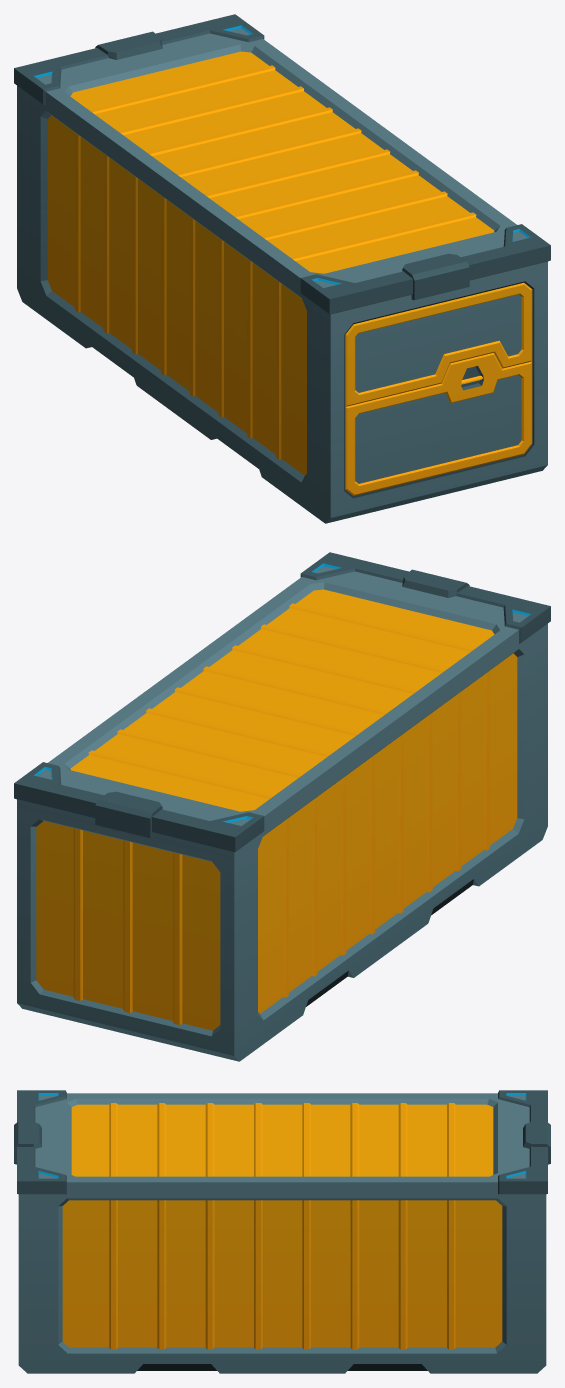
The model's file is Container_type_A_006.glb.
The picture shows the model from 3 angles, top to bottom: view 1: azimuth 30°, elevation 25°; view 2: azimuth 150°, elevation 25°; view 3: azimuth 270°, elevation 25°; orthographic projection. The views are drawn at different scales.
Parts seen in each view (by area): view 1: Container_type_A_006, Container_type_A_door_005, Container_type_A_door_006; view 2: Container_type_A_006; view 3: Container_type_A_006.
Boxes of the visible parts, left/top/right/bottom form: Container_type_A_006: left=14, top=14, right=550, bottom=523; Container_type_A_door_005: left=345, top=352, right=532, bottom=495; Container_type_A_door_006: left=345, top=282, right=532, bottom=406; Container_type_A_006: left=14, top=552, right=550, bottom=1061; Container_type_A_006: left=14, top=1090, right=550, bottom=1373.
Size of the model in its own units: 2.44 by 2.46 by 6.11.
2 materials, 2 textured.
